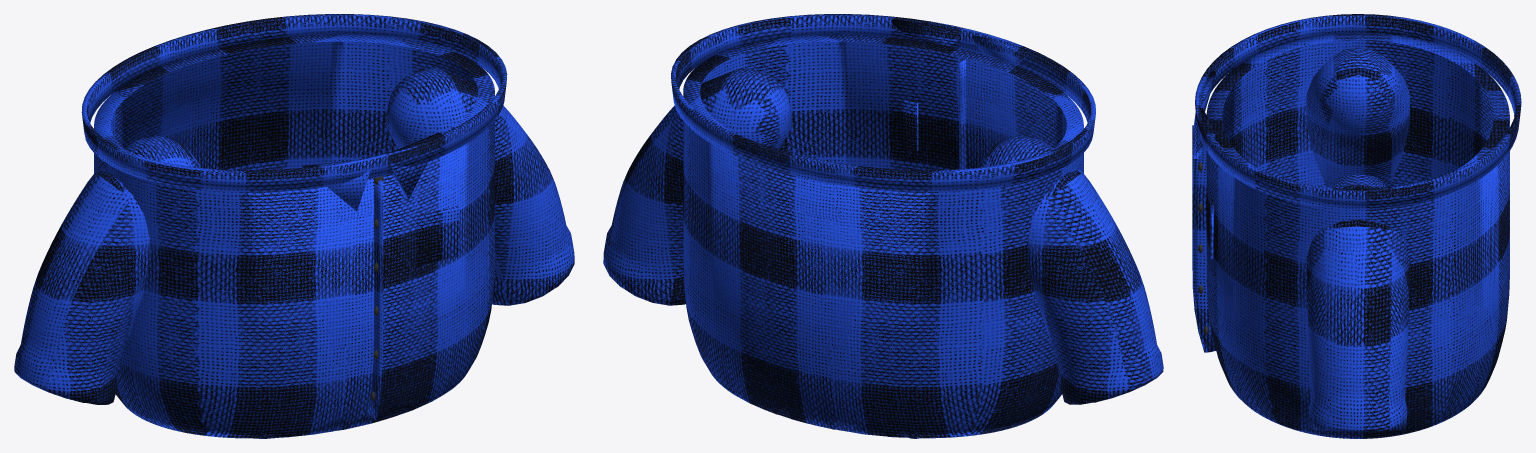
File: buttonshirt2.fbx
3 renders of one model, left to right at view 1: azimuth 30°, elevation 25°; view 2: azimuth 150°, elevation 25°; view 3: azimuth 270°, elevation 25°, orthographic. The views are drawn at different scales.
Visible parts, largest first — view 1: buttonshirt2; view 2: buttonshirt2; view 3: buttonshirt2.
Boxes of the visible parts, x1=… form: buttonshirt2: x1=14, y1=14, x2=574, y2=438; buttonshirt2: x1=603, y1=14, x2=1163, y2=438; buttonshirt2: x1=1192, y1=14, x2=1521, y2=438.
Bounding box in the file's own units: 1.26 × 0.6203 × 0.7035.
Materials: 2 (1 with a texture image).
